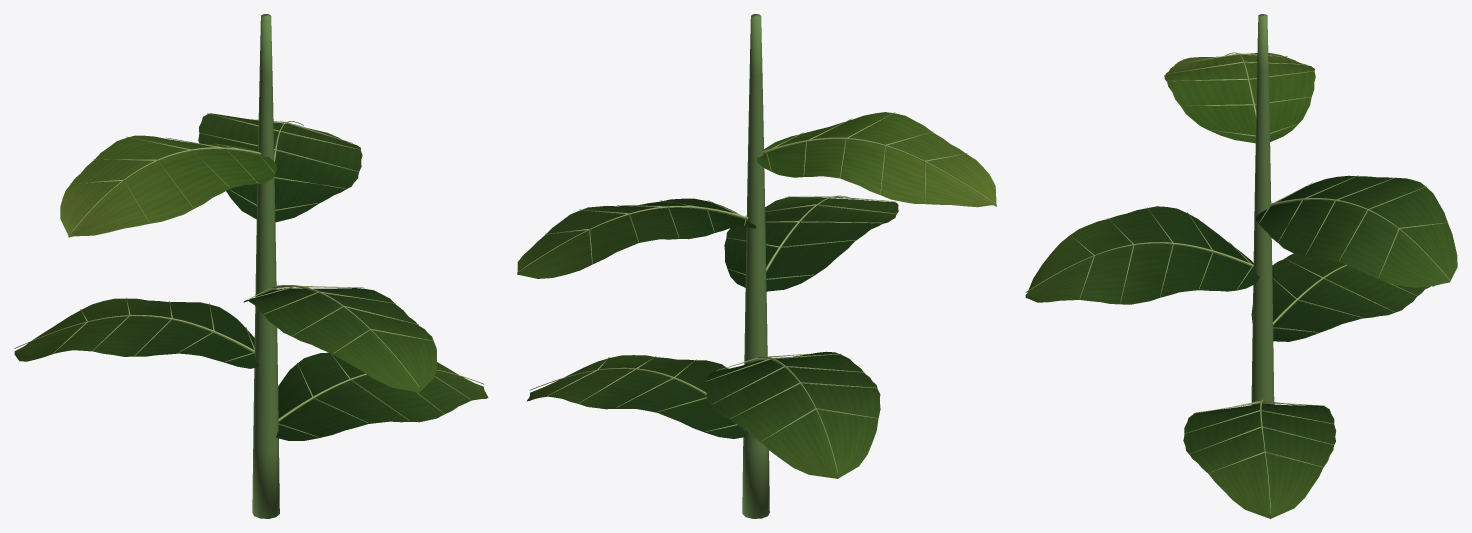
File: bellflower-04.glb
The picture shows the model from 3 angles, left to right: view 1: azimuth 30°, elevation 25°; view 2: azimuth 150°, elevation 25°; view 3: azimuth 270°, elevation 25°; orthographic projection. The views are drawn at different scales.
Parts seen in each view (by area): view 1: bellflower_stage_04_leaf_veins.006, bellflower_stage_04_young_leaf.006, bellflower_stage_04_stem_fibres.006, bellflower_stage_04_raised_midveins.006; view 2: bellflower_stage_04_leaf_veins.006, bellflower_stage_04_young_leaf.006, bellflower_stage_04_stem_fibres.006, bellflower_stage_04_raised_midveins.006; view 3: bellflower_stage_04_leaf_veins.006, bellflower_stage_04_young_leaf.006, bellflower_stage_04_stem_fibres.006, bellflower_stage_04_raised_midveins.006.
Part boxes in pixels (bbox=[...]): bellflower_stage_04_leaf_veins.006: bbox=[14, 113, 488, 440]; bellflower_stage_04_young_leaf.006: bbox=[60, 135, 276, 237]; bellflower_stage_04_stem_fibres.006: bbox=[252, 14, 279, 518]; bellflower_stage_04_raised_midveins.006: bbox=[14, 113, 484, 437]; bellflower_stage_04_leaf_veins.006: bbox=[517, 197, 898, 478]; bellflower_stage_04_young_leaf.006: bbox=[756, 112, 996, 207]; bellflower_stage_04_stem_fibres.006: bbox=[742, 14, 769, 518]; bellflower_stage_04_raised_midveins.006: bbox=[517, 112, 996, 472]; bellflower_stage_04_leaf_veins.006: bbox=[1025, 175, 1457, 518]; bellflower_stage_04_young_leaf.006: bbox=[1164, 53, 1315, 143]; bellflower_stage_04_stem_fibres.006: bbox=[1251, 14, 1274, 404]; bellflower_stage_04_raised_midveins.006: bbox=[1025, 52, 1449, 512].
Bounding box in the file's own units: 0.1471 × 0.1583 × 0.1339.
4 materials, 2 textured.
